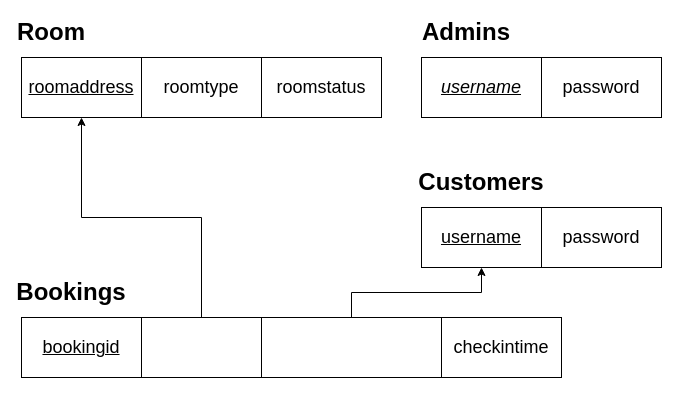
The diagram is 679 pixels wide and 395 high, and some of its shapes have lost their labels. The centre of each missing label's shape, as x and y in pixels:
customerusername: point 351,347
roomid: point 201,347
